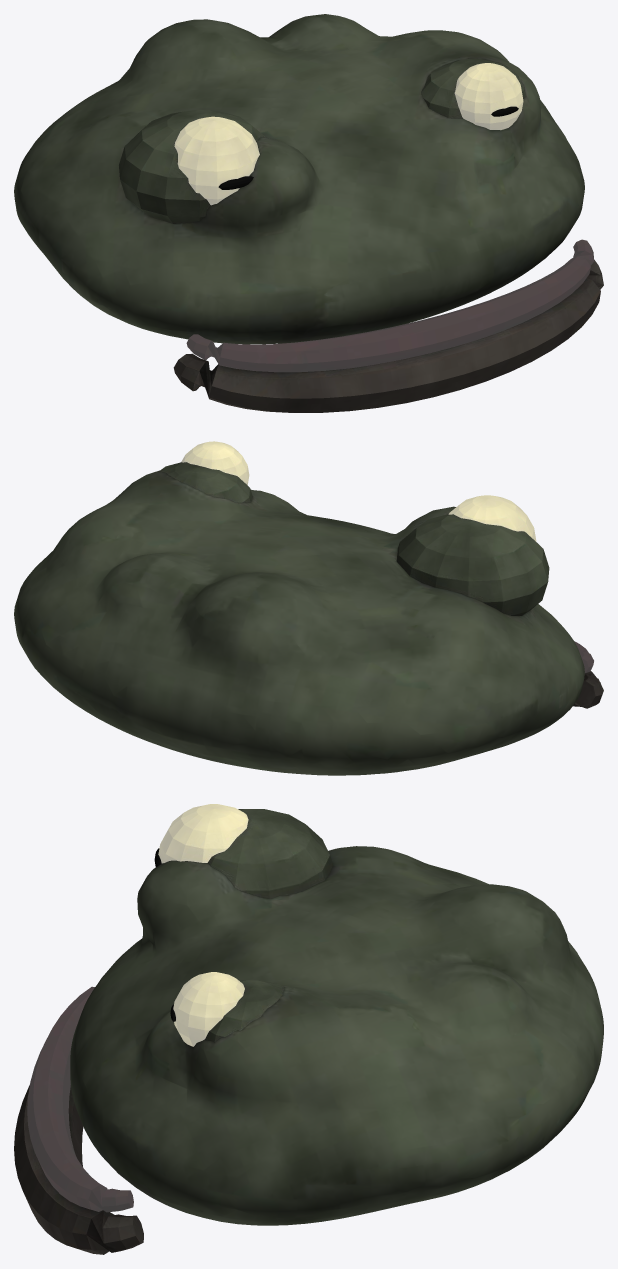
File: weeper_head.glb
3 views of the same model, one above another, from view 1: azimuth 30°, elevation 25°; view 2: azimuth 150°, elevation 25°; view 3: azimuth 270°, elevation 25° (orthographic). The views are drawn at different scales.
Parts seen in each view (by area): view 1: head, lip, mouth, fold, eye, eye.001, fold.001; view 2: head, fold, fold.001, eye, eye.001, lip; view 3: head, mouth, fold, lip, eye, eye.001, fold.001.
Part boxes in pixels (left/top/right/bottom): head: left=14, top=14, right=584, bottom=344; lip: left=173, top=260, right=603, bottom=412; mouth: left=186, top=239, right=594, bottom=372; fold: left=119, top=109, right=266, bottom=223; eye: left=174, top=116, right=259, bottom=205; eye.001: left=454, top=63, right=523, bottom=130; fold.001: left=421, top=58, right=525, bottom=118; head: left=14, top=470, right=584, bottom=775; fold: left=396, top=514, right=549, bottom=615; fold.001: left=160, top=462, right=252, bottom=502; eye: left=448, top=495, right=536, bottom=541; eye.001: left=181, top=441, right=249, bottom=484; lip: left=573, top=671, right=603, bottom=708; head: left=70, top=846, right=603, bottom=1225; mouth: left=27, top=986, right=133, bottom=1212; fold: left=207, top=809, right=333, bottom=898; lip: left=14, top=1085, right=143, bottom=1254; eye: left=158, top=804, right=248, bottom=863; eye.001: left=173, top=972, right=244, bottom=1046; fold.001: left=204, top=980, right=284, bottom=1042.
Size of the model in its own units: 1.75 by 0.86 by 1.56.
9 materials, 9 textured.
